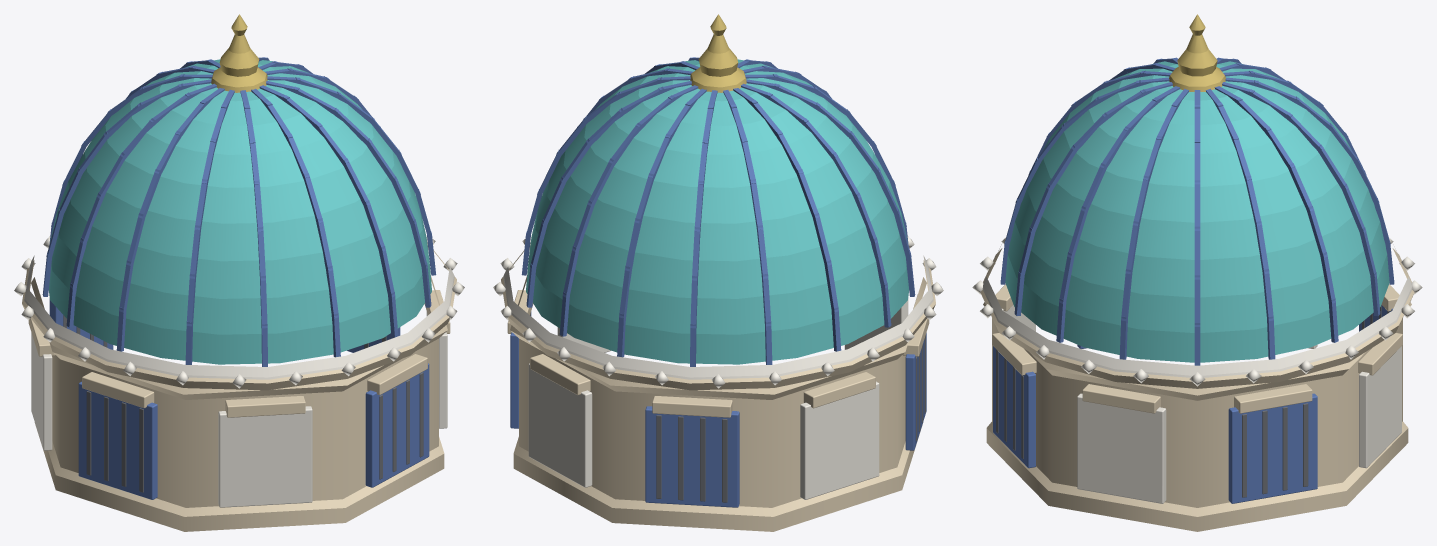
File: glazed-dome-on-dru-634d2284.glb
The picture shows the model from 3 angles, left to right: view 1: azimuth 30°, elevation 25°; view 2: azimuth 150°, elevation 25°; view 3: azimuth 270°, elevation 25°; orthographic projection.
Parts seen in each view (by area): view 1: glazed-dome-on-drum-large; view 2: glazed-dome-on-drum-large; view 3: glazed-dome-on-drum-large.
Boxes of the visible parts, bbox=[...] form: glazed-dome-on-drum-large: bbox=[14, 14, 464, 531]; glazed-dome-on-drum-large: bbox=[493, 14, 943, 531]; glazed-dome-on-drum-large: bbox=[972, 14, 1422, 531].
Bounding box in the file's own units: 4.91 × 5.16 × 4.91.
